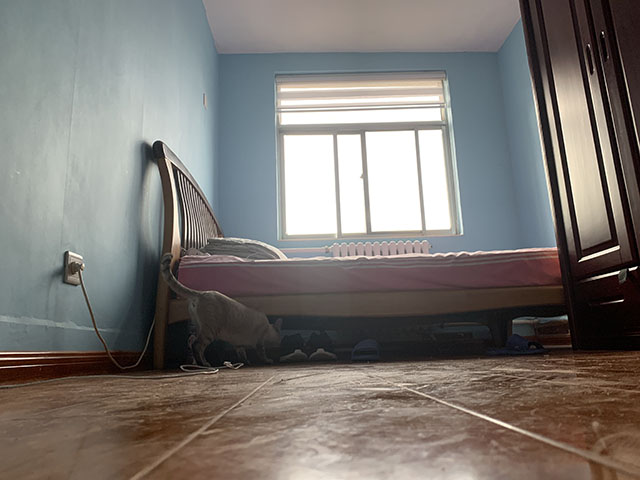bed: (152, 139, 566, 372)
slippers: (481, 332, 549, 357), (350, 338, 381, 364)
wire: (1, 261, 244, 387)
